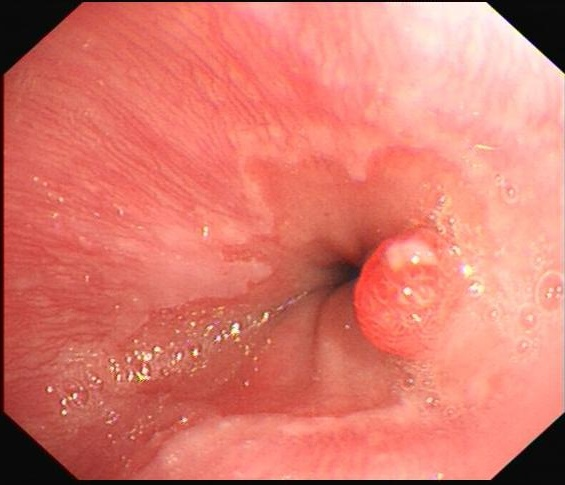Polyp: (340, 201, 505, 389)
